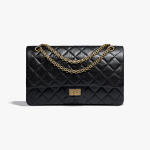channel: (22, 43, 136, 112), (94, 55, 122, 100), (55, 53, 97, 74)
